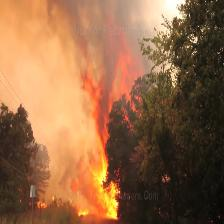fire: (74, 56, 166, 224)
smoke: (0, 0, 211, 110)
